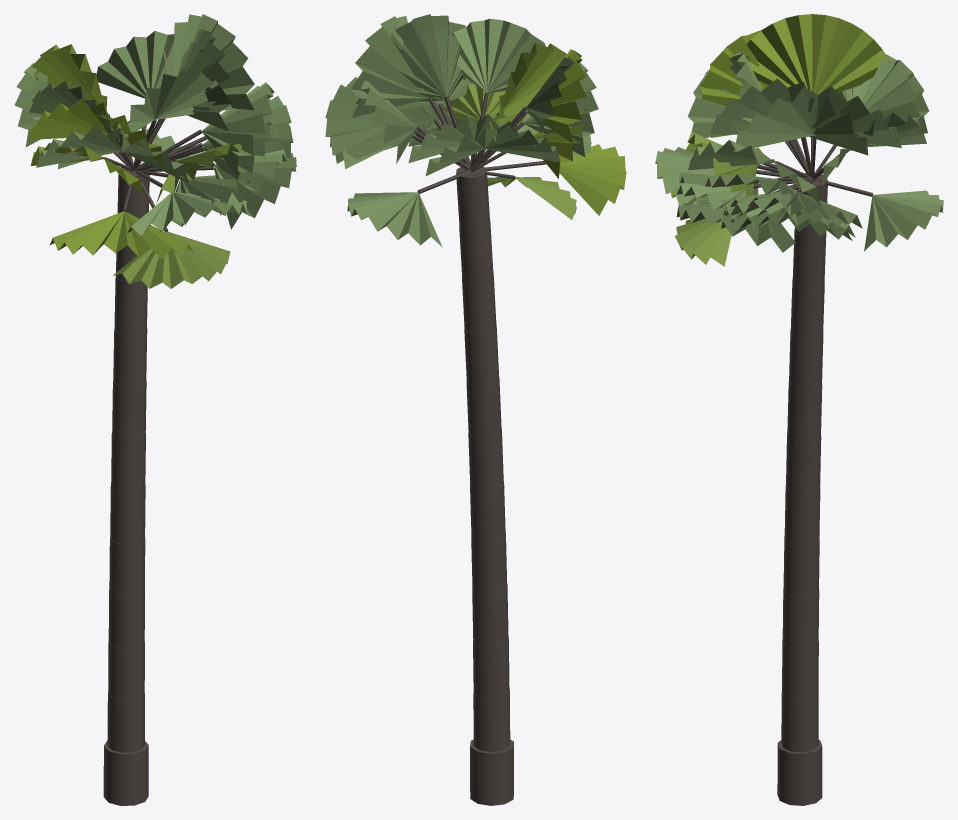
File: palmyra.glb
3 views of the same model, side by side, from view 1: azimuth 30°, elevation 25°; view 2: azimuth 150°, elevation 25°; view 3: azimuth 270°, elevation 25° (orthographic).
Parts seen in each view (by area): view 1: palmyra_1; view 2: palmyra_1; view 3: palmyra_1.
Boxes of the visible parts, x1,y1,x2,y2 form: palmyra_1: (14,14,296,805); palmyra_1: (325,14,626,805); palmyra_1: (655,14,943,805).
Bounding box in the file's own units: 4.85 × 14.06 × 4.83.
